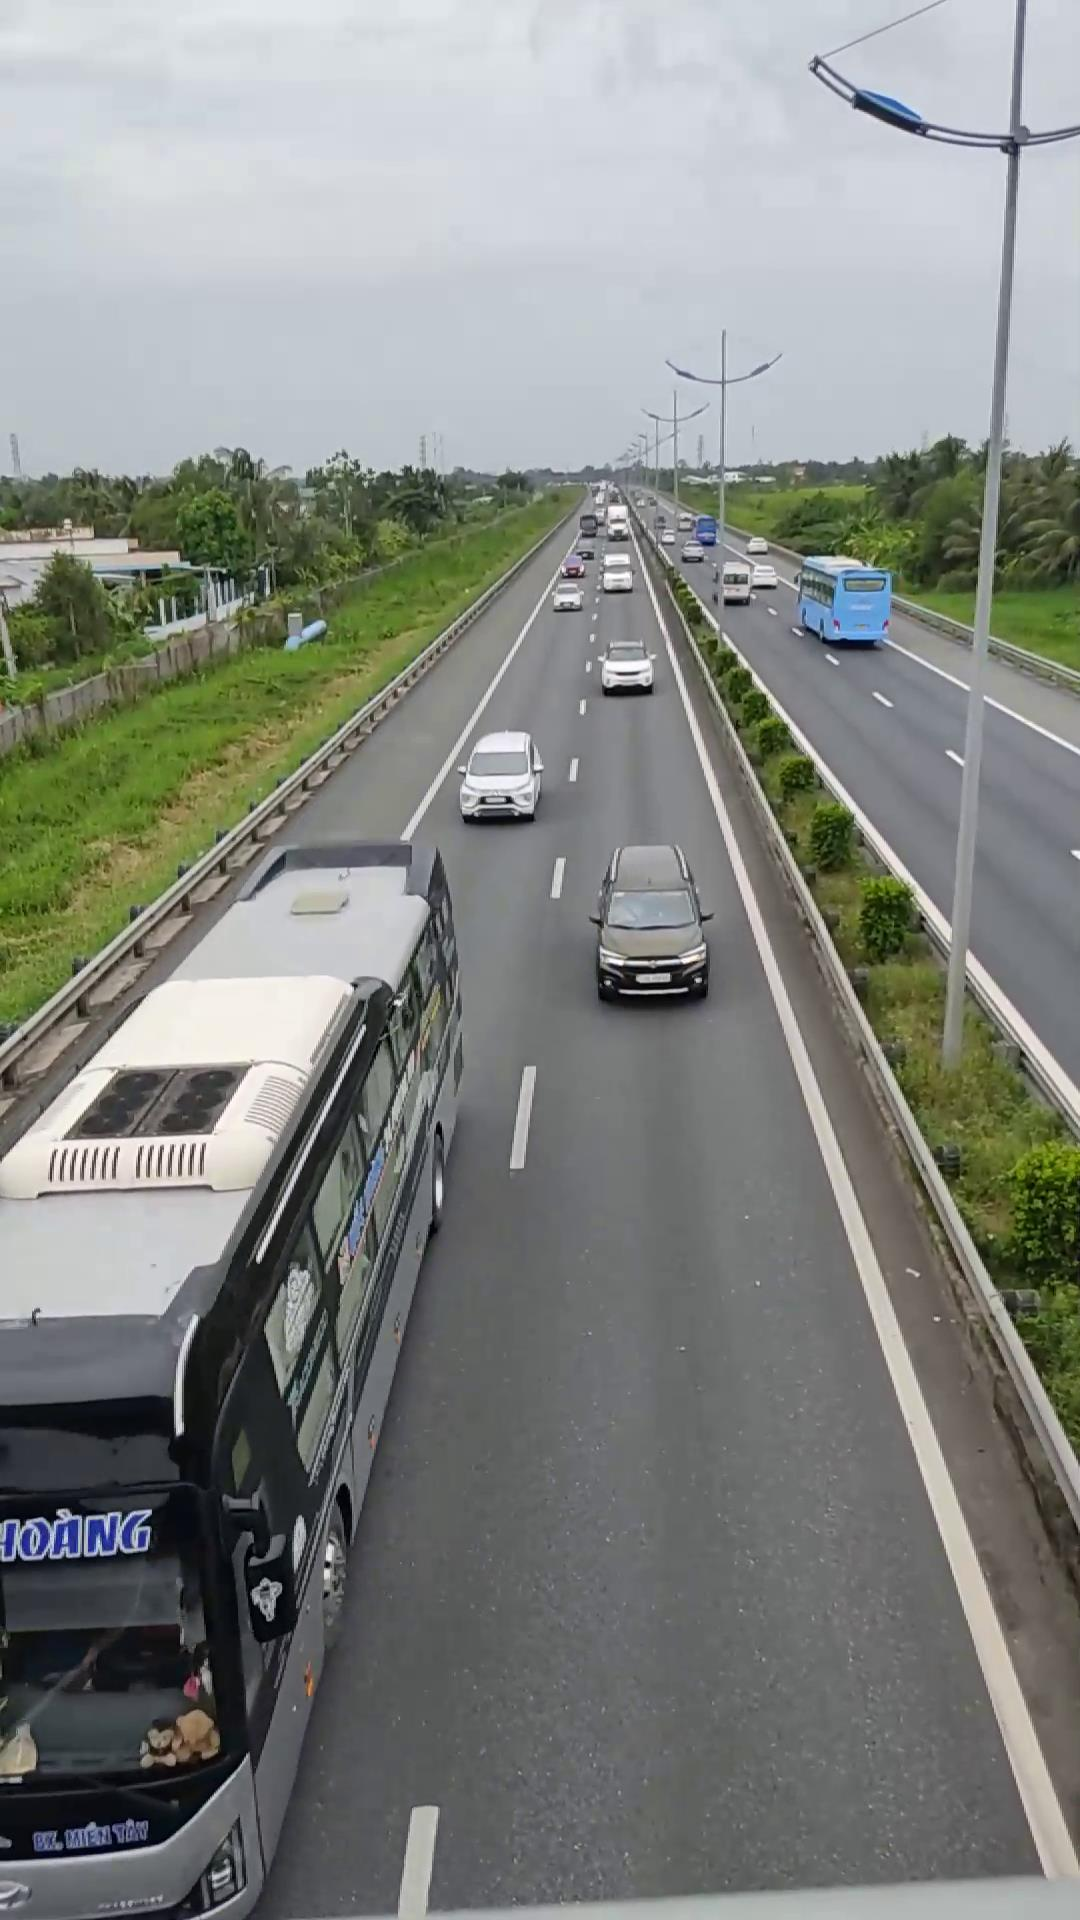bus: (0, 837, 465, 1917)
car: (589, 843, 711, 1001), (456, 731, 545, 820)
